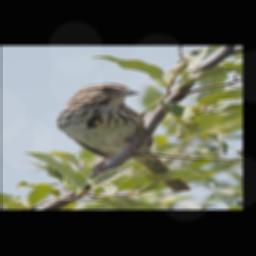Sparrow: (58, 83, 193, 192)
